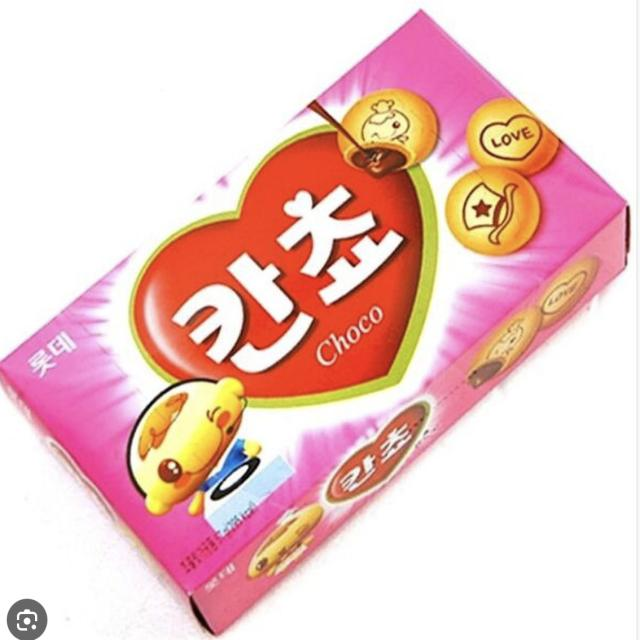biodegradable: (24, 17, 625, 581)
